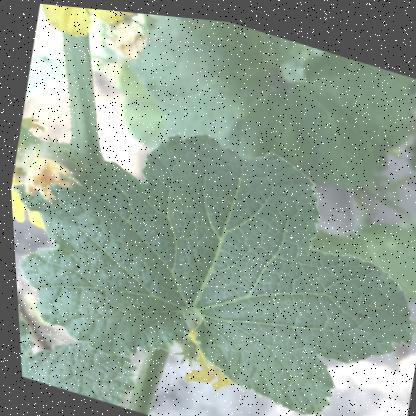Normal: (3, 75, 415, 415)
